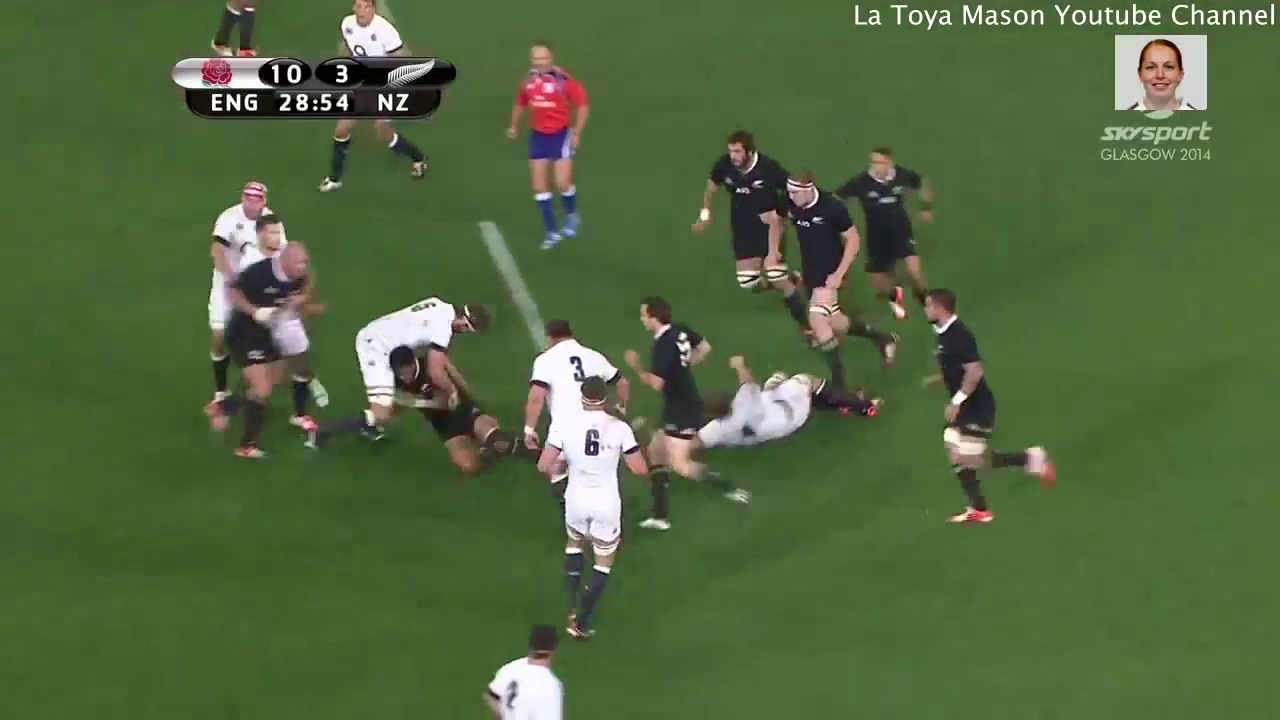player: (903, 283, 1069, 550), (617, 292, 761, 544), (531, 375, 636, 653), (777, 165, 899, 392), (686, 126, 815, 318), (495, 29, 597, 252), (696, 353, 885, 455), (837, 144, 940, 323), (349, 280, 485, 405), (398, 350, 527, 473), (231, 244, 307, 452), (201, 167, 268, 326), (476, 621, 580, 720), (513, 312, 613, 414)
